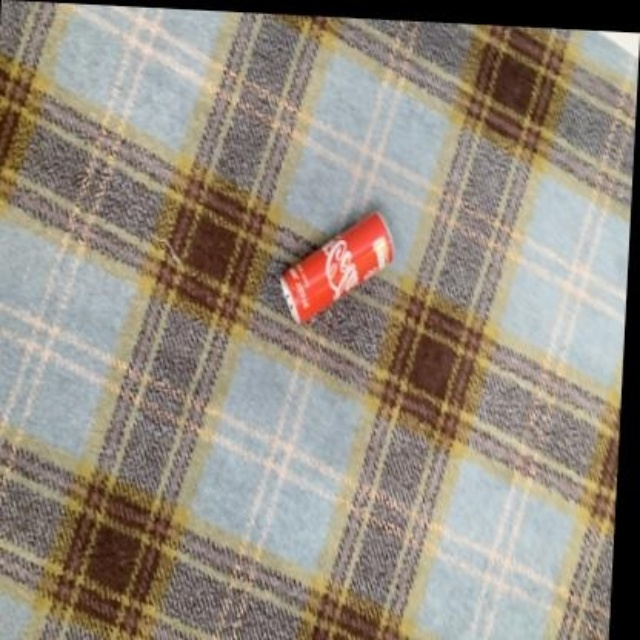trash: (280, 212, 392, 322)
